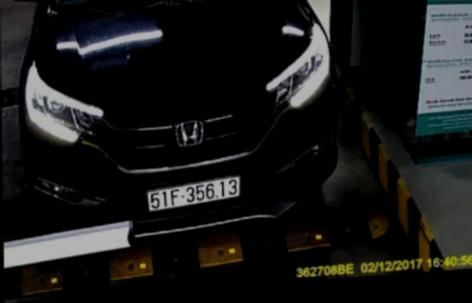License_Plate: (145, 180, 242, 210)
